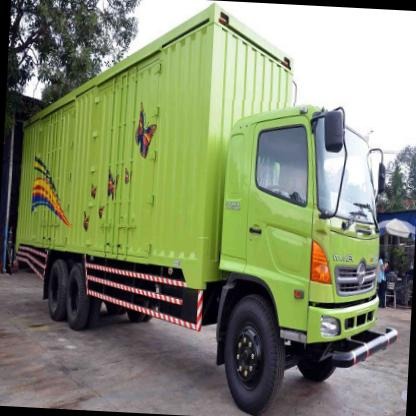truck: (212, 100, 397, 416)
